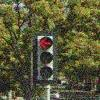traffic lights: (38, 35, 55, 80)
